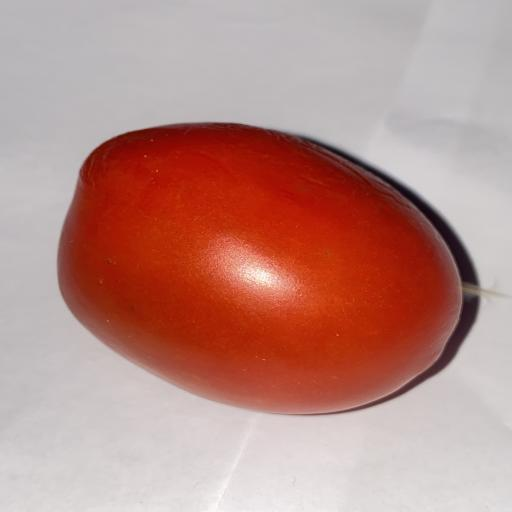ripe: (58, 123, 462, 414)
